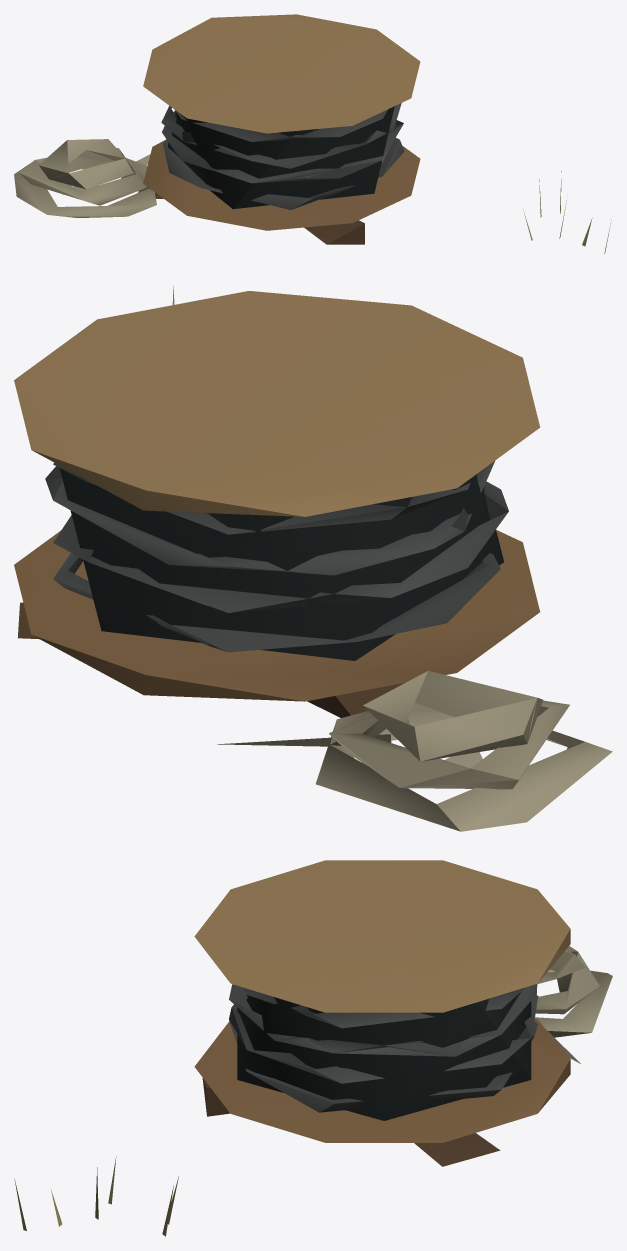
The model's file is cable_drum_a_lod2.glb.
The picture shows the model from 3 angles, top to bottom: view 1: azimuth 30°, elevation 25°; view 2: azimuth 150°, elevation 25°; view 3: azimuth 270°, elevation 25°; orthographic projection. The views are drawn at different scales.
Visible parts, largest first — view 1: Surface.001; view 2: Surface.001; view 3: Surface.001.
Part boxes in pixels (x1,y1,x2,y2): Surface.001: (14, 14, 611, 253); Surface.001: (14, 286, 612, 831); Surface.001: (14, 860, 612, 1236).
Size of the model in its own units: 5.26 by 1.65 by 5.
